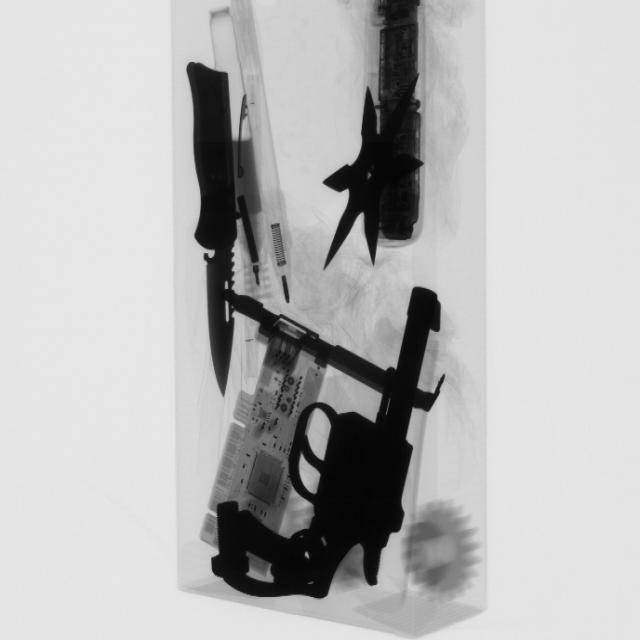GUN: (230, 290, 443, 607)
KNIFE: (177, 56, 259, 398)
SHURIKEN: (319, 73, 429, 267)
